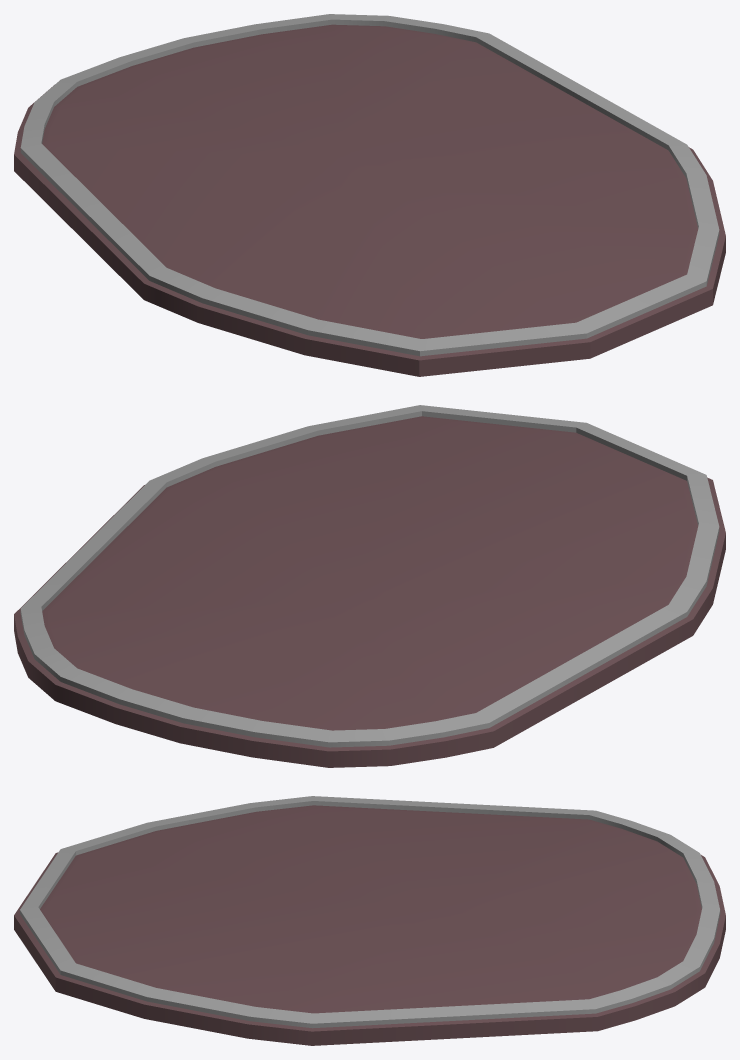
The model's file is prop_ToiletLid.fbx.
The picture shows the model from 3 angles, top to bottom: view 1: azimuth 30°, elevation 25°; view 2: azimuth 150°, elevation 25°; view 3: azimuth 270°, elevation 25°; orthographic projection. The views are drawn at different scales.
Visible parts, largest first — view 1: ToiletLid; view 2: ToiletLid; view 3: ToiletLid.
Boxes of the visible parts, x1,y1,x2,y2 form: ToiletLid: [14, 14, 725, 376]; ToiletLid: [14, 405, 725, 767]; ToiletLid: [14, 796, 725, 1045].
Bounding box in the file's own units: 326 × 17.67 × 421.
